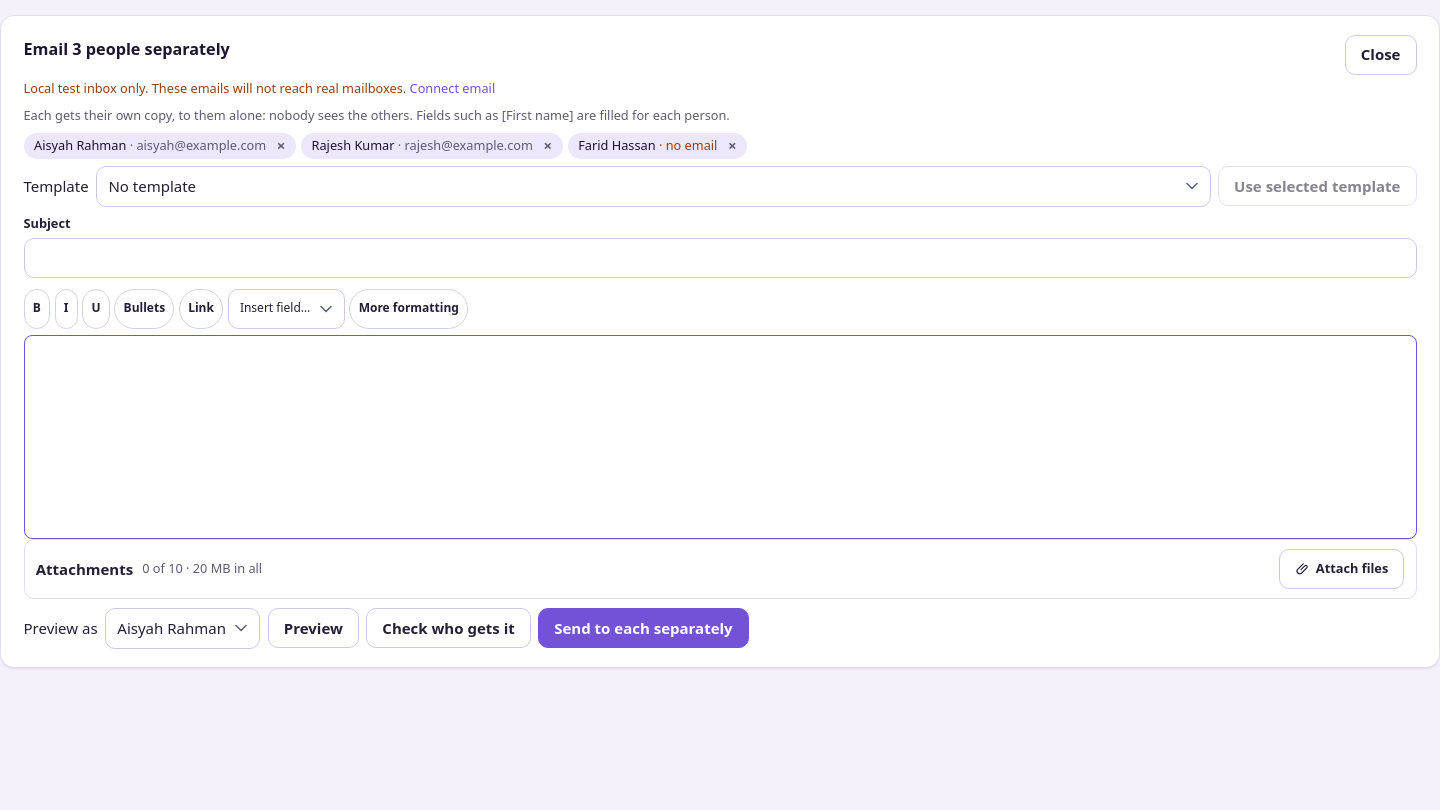
Test: one email to each person separately › checks who gets it, previews it as one of them, and sends each their own
Expected: the heading "Email 3 people separately" is shown, [24,39,230,60]
Expected: the text "· no email" is shown, [656,136,717,154]
Click the button named "Leave out Rajesh Kumar" at (548, 146), box [537,138,558,153]
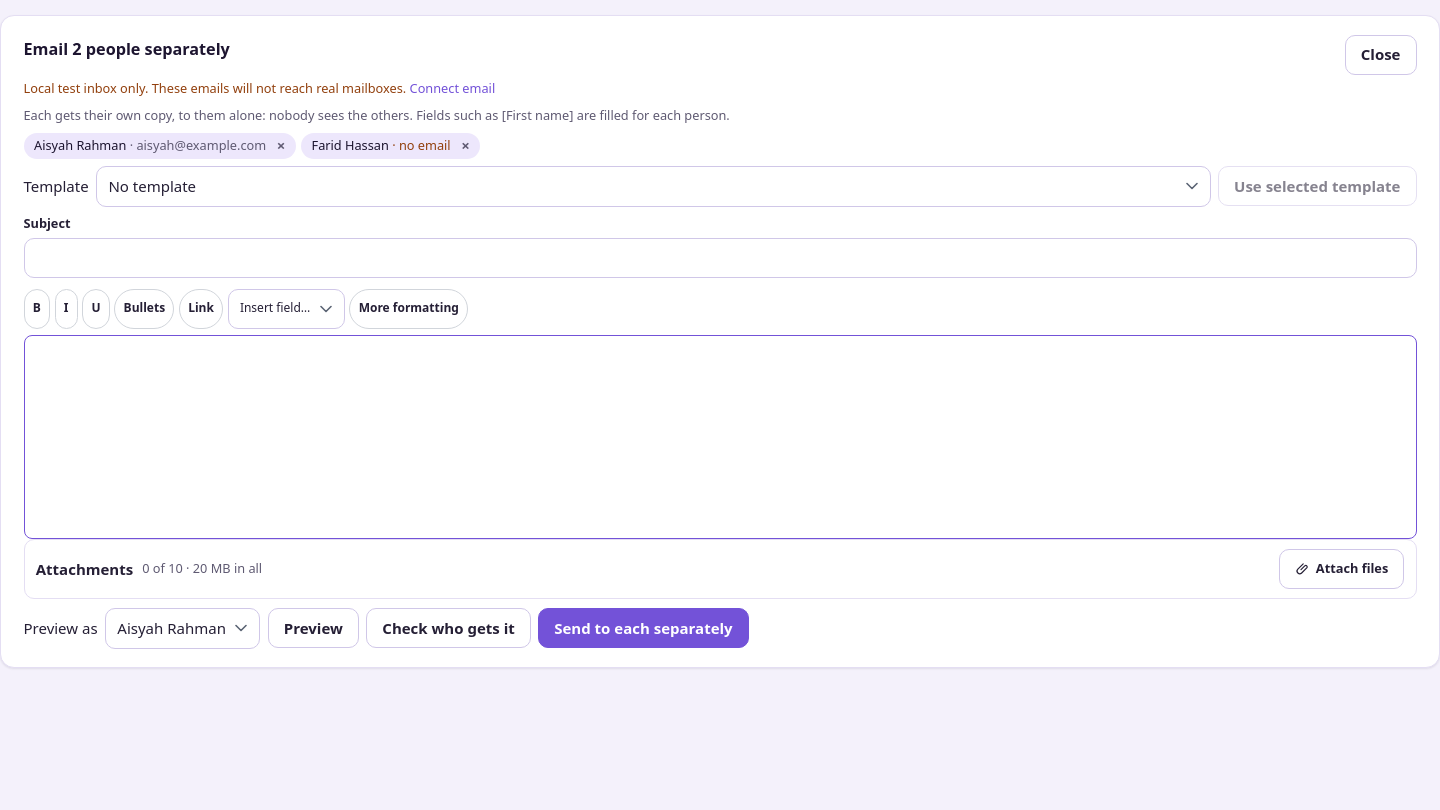
Type "A role for you, [First name]" into the field labelled "Subject" at (720, 258), box [24,238,1416,278]
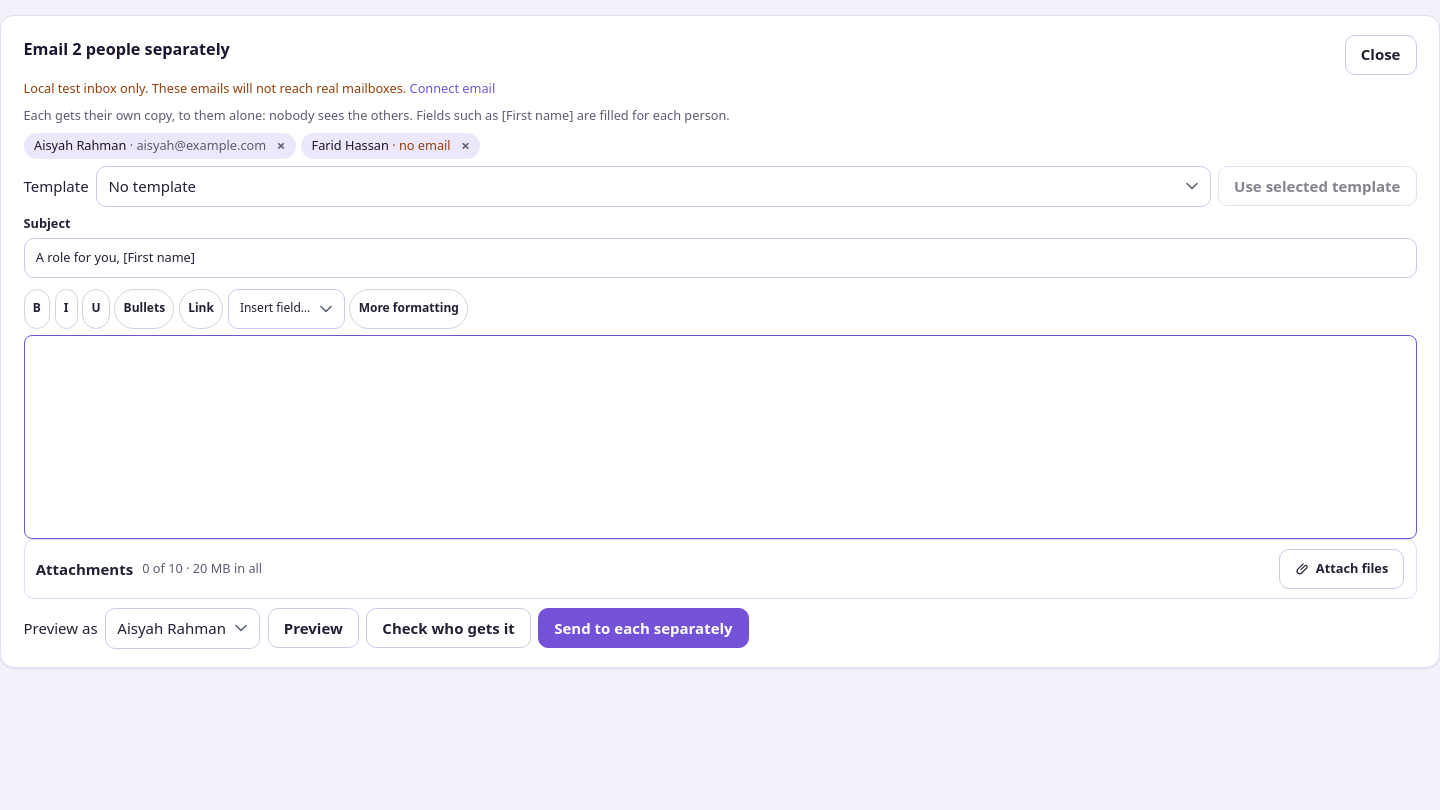
Click the button "Check who gets it" at (448, 628), box [366,608,531,648]
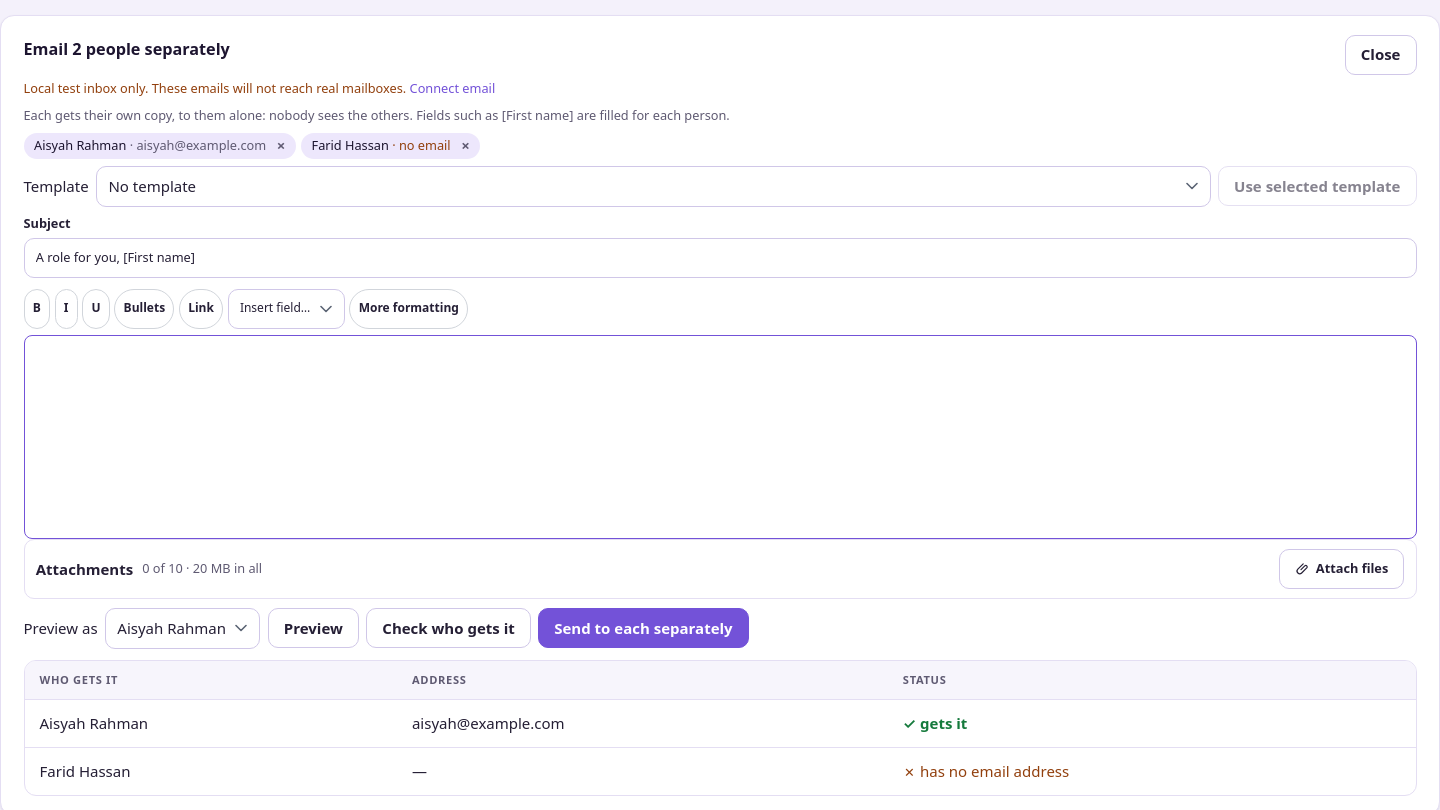
Expected: the text "✓ gets it" is shown, [903,713,967,733]
Expected: the text "✗ has no email address" is shown, [903,761,1069,781]
Select "Aisyah Rahman" in the dropdown labelled "Preview as" at (183, 628), box [105,608,260,649]
Click the button "Preview" at (313, 628), box [268,608,359,648]
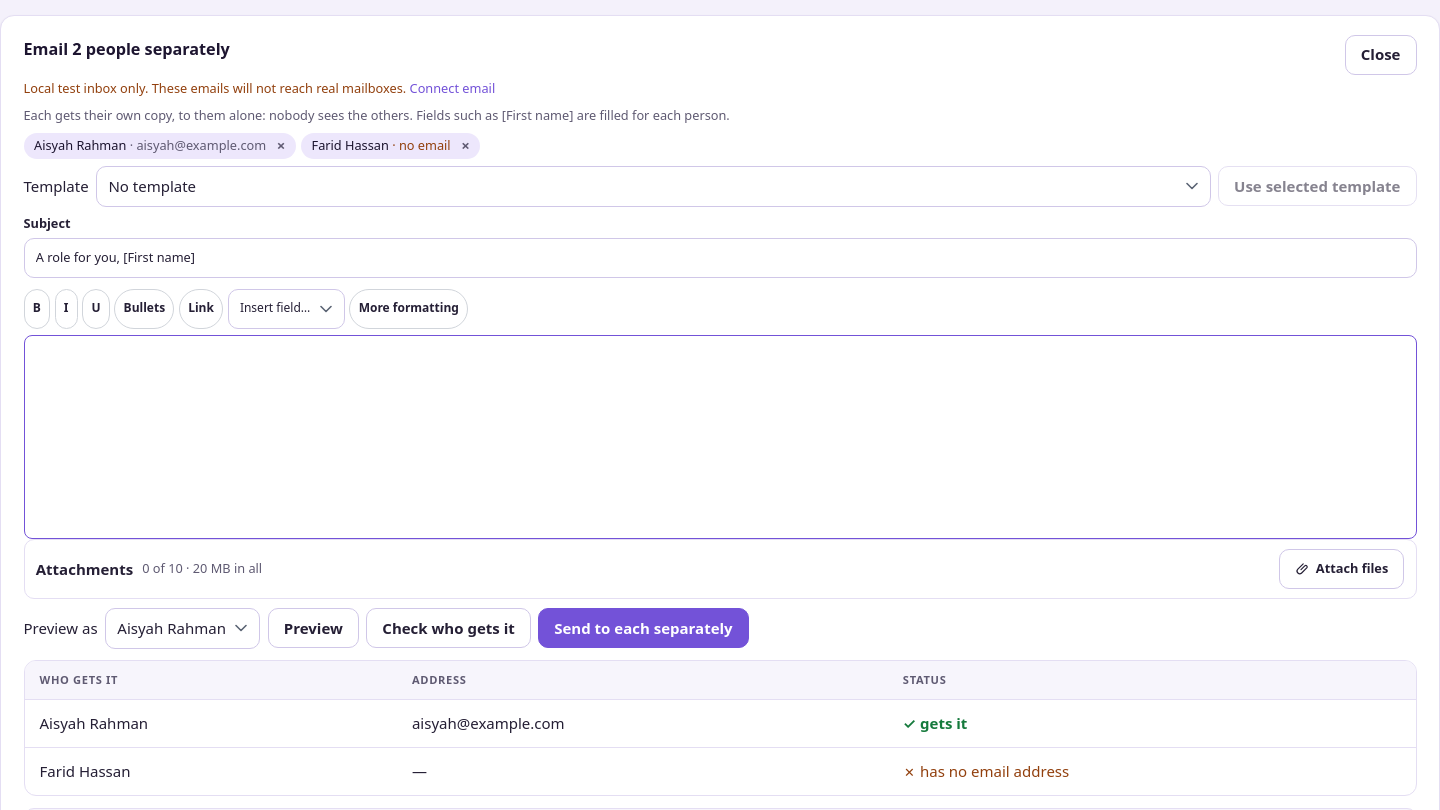
Click the button "Send to each separately" at (643, 628), box [538,608,749,648]
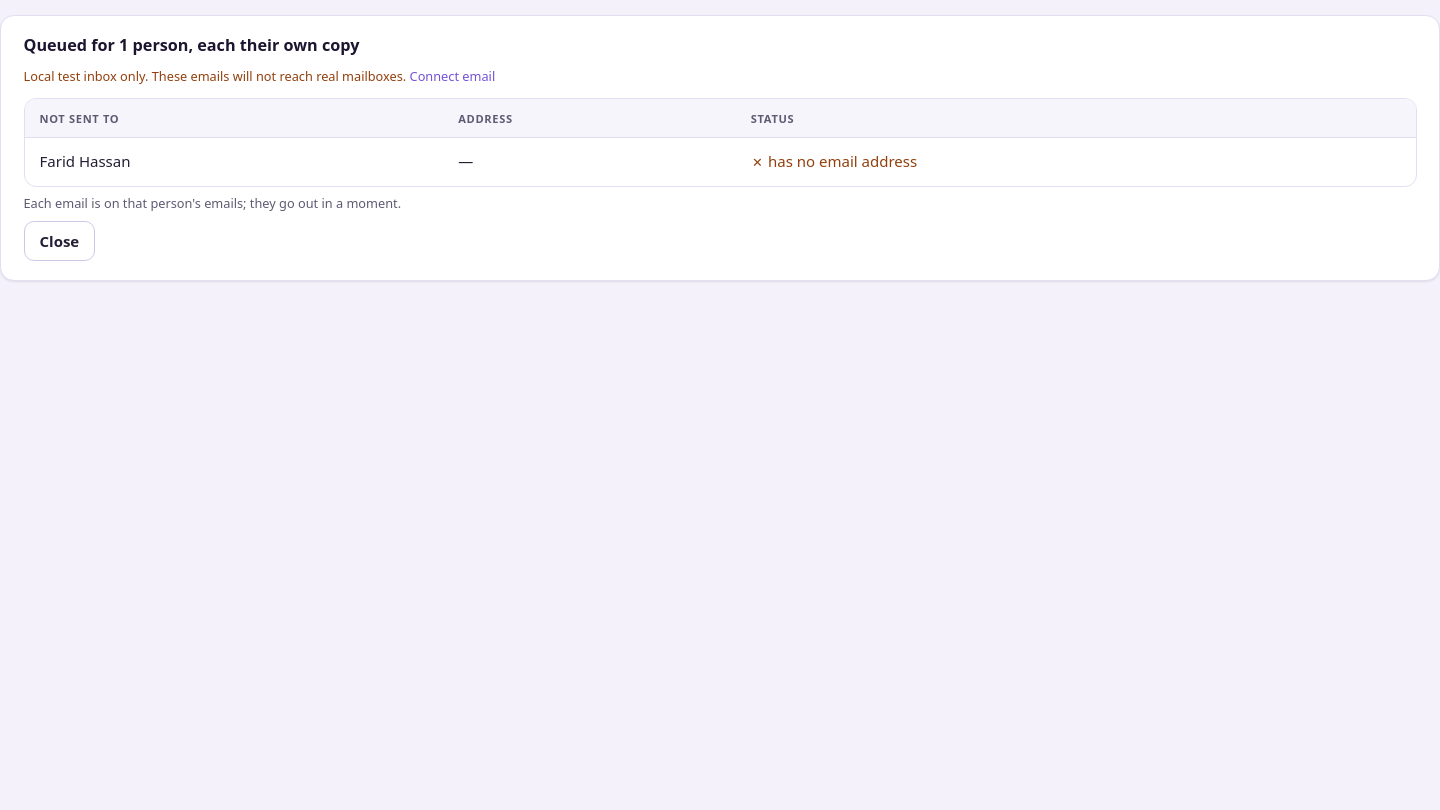
Expected: the text "Farid Hassan" is shown, [24,138,443,186]
Expected: the heading "Queued for 1 person, each their own copy" is shown, [24,34,359,56]
